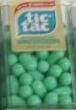grozi_21: (0, 0, 75, 110)
